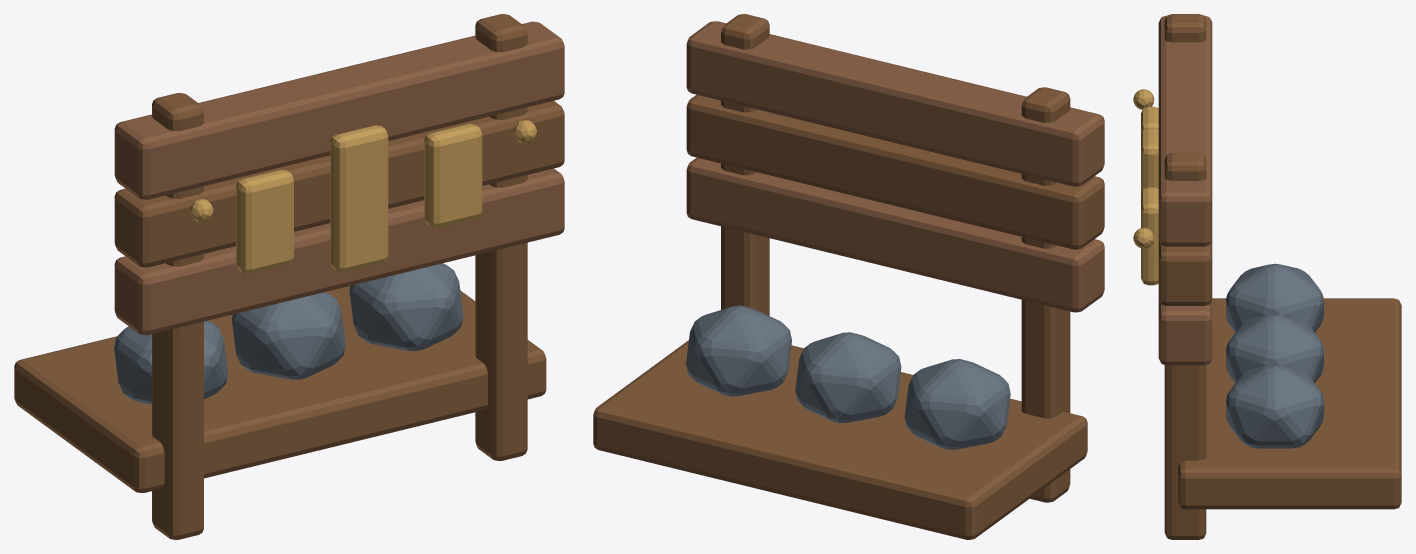
File: castle_sign.glb
3 views of the same model, side by side, from view 1: azimuth 30°, elevation 25°; view 2: azimuth 150°, elevation 25°; view 3: azimuth 270°, elevation 25° (orthographic). The views are drawn at different scales.
Parts seen in each view (by area): view 1: Peg.001, CarvedBoard.001, Rivet.002, SupplyStone.001; view 2: Peg.001, CarvedBoard.001, SupplyStone.001; view 3: Peg.001, SupplyStone.001, CarvedBoard.001, Rivet.002.
Part boxes in pixels (x1,y1,x2,y2): Peg.001: (14, 14, 564, 539); CarvedBoard.001: (114, 21, 564, 335); Rivet.002: (190, 120, 536, 273); SupplyStone.001: (114, 263, 463, 404); Peg.001: (593, 14, 1104, 539); CarvedBoard.001: (686, 21, 1104, 312); SupplyStone.001: (686, 305, 1010, 449); Peg.001: (1158, 14, 1401, 539); SupplyStone.001: (1226, 263, 1323, 448); CarvedBoard.001: (1158, 15, 1212, 365); Rivet.002: (1133, 89, 1158, 285).
Size of the model in its own units: 1.45 by 1.4 by 0.9004.
